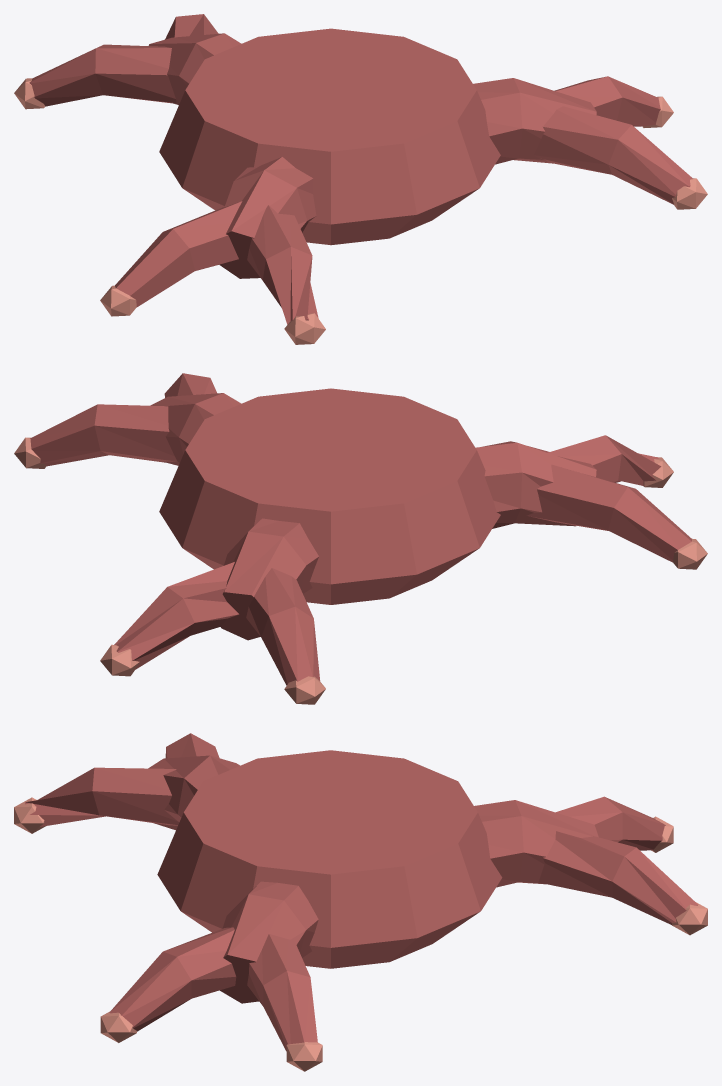
Rendered from CoralRoot.glb.
The picture shows the model from 3 angles, top to bottom: view 1: azimuth 30°, elevation 25°; view 2: azimuth 150°, elevation 25°; view 3: azimuth 270°, elevation 25°; orthographic projection.
Parts seen in each view (by area): view 1: CoralRoot_CoralRootBody, CoralRoot_CoralRootTips; view 2: CoralRoot_CoralRootBody, CoralRoot_CoralRootTips; view 3: CoralRoot_CoralRootBody, CoralRoot_CoralRootTips.
Boxes of the visible parts, x1,y1,x2,y2 form: CoralRoot_CoralRootBody: (29, 14, 692, 324); CoralRoot_CoralRootTips: (14, 78, 707, 344); CoralRoot_CoralRootBody: (30, 373, 691, 685); CoralRoot_CoralRootTips: (14, 437, 707, 704); CoralRoot_CoralRootBody: (25, 733, 697, 1051); CoralRoot_CoralRootTips: (14, 753, 707, 1071).
Size of the model in its own units: 3.7 by 0.6 by 3.54.
